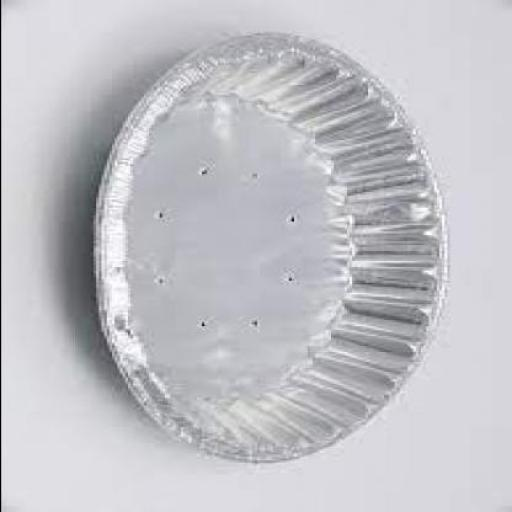metal: (98, 30, 448, 459)
